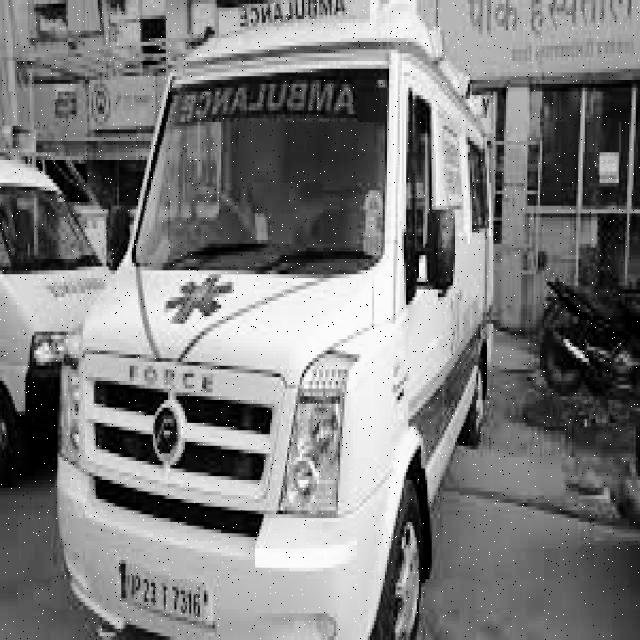LCV: (55, 1, 416, 639)
